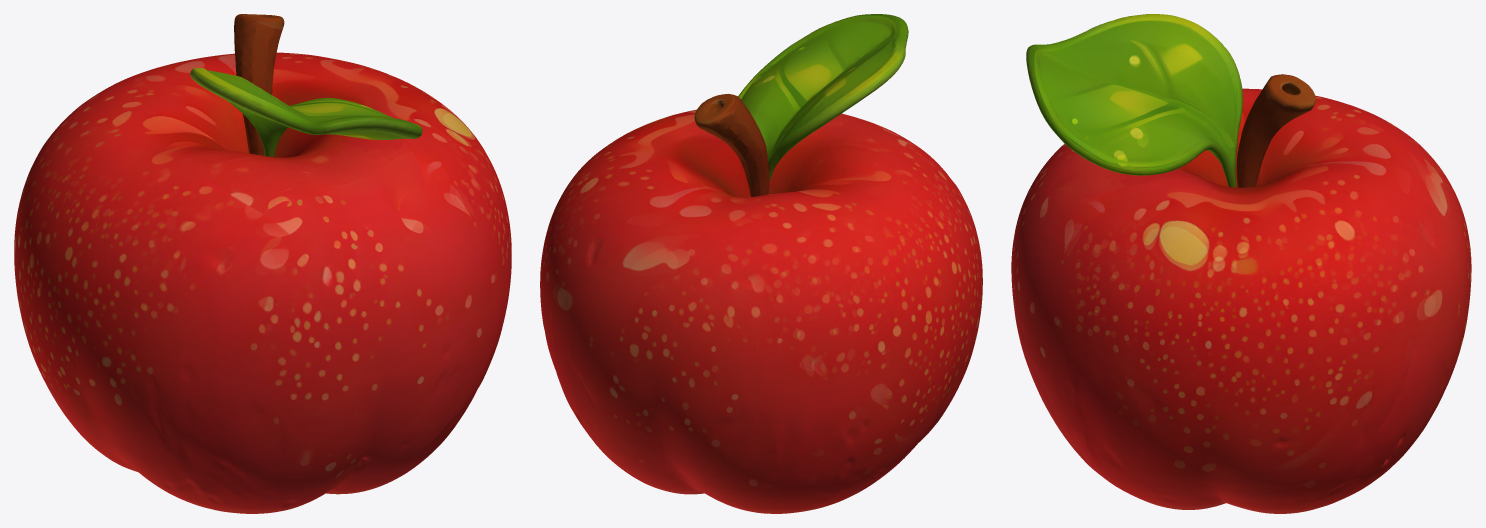
The model's file is happy.glb.
The picture shows the model from 3 angles, left to right: view 1: azimuth 30°, elevation 25°; view 2: azimuth 150°, elevation 25°; view 3: azimuth 270°, elevation 25°; orthographic projection. The views are drawn at different scales.
Visible parts, largest first — view 1: tripo_node_de672b80-6529-4d19-97d3-47ac35a4bc9d; view 2: tripo_node_de672b80-6529-4d19-97d3-47ac35a4bc9d; view 3: tripo_node_de672b80-6529-4d19-97d3-47ac35a4bc9d.
Boxes of the visible parts, x1,y1,x2,y2 form: tripo_node_de672b80-6529-4d19-97d3-47ac35a4bc9d: [14, 14, 511, 513]; tripo_node_de672b80-6529-4d19-97d3-47ac35a4bc9d: [540, 14, 982, 513]; tripo_node_de672b80-6529-4d19-97d3-47ac35a4bc9d: [1011, 14, 1471, 513].
Bounding box in the file's own units: 0.9999 × 0.9984 × 0.9961.
Materials: 1 (1 with a texture image).
